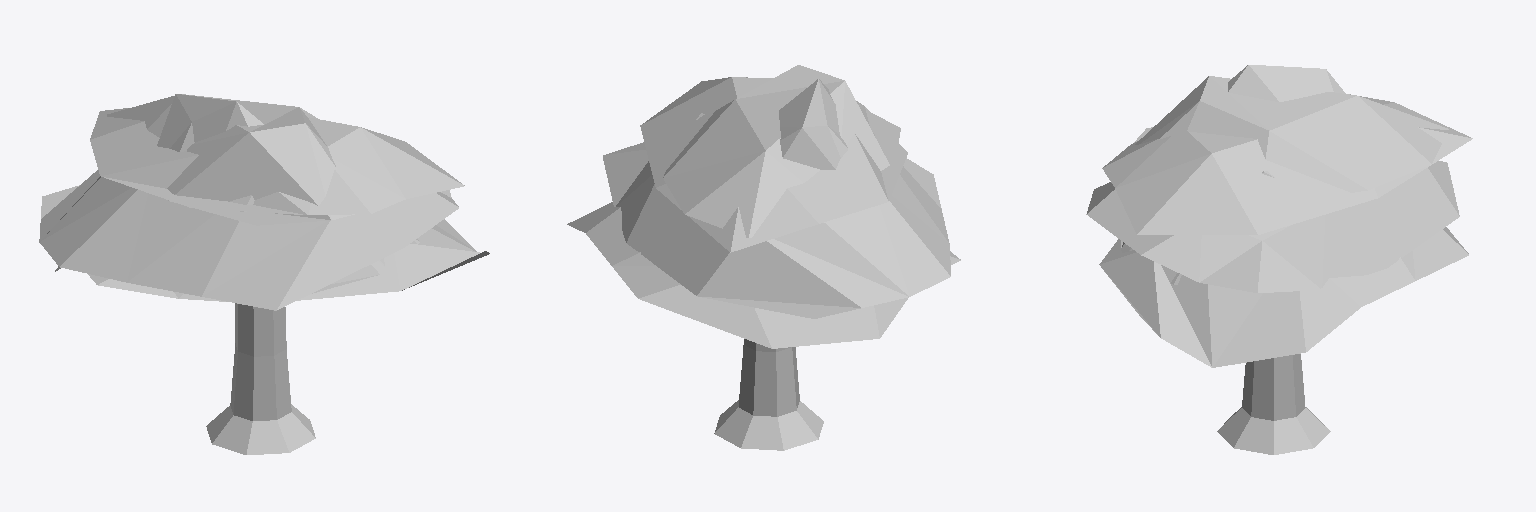
File: WOH_Asset_Tree.obj
3 renders of one model, left to right at view 1: azimuth 30°, elevation 25°; view 2: azimuth 150°, elevation 25°; view 3: azimuth 270°, elevation 25°, orthographic.
Visible parts, largest first — view 1: WOH_Asset_Tree_Tree2mk2; view 2: WOH_Asset_Tree_Tree2mk2; view 3: WOH_Asset_Tree_Tree2mk2.
Boxes of the visible parts, <box> form: WOH_Asset_Tree_Tree2mk2: <box>39,94,489,454</box>; WOH_Asset_Tree_Tree2mk2: <box>567,65,960,450</box>; WOH_Asset_Tree_Tree2mk2: <box>1086,65,1472,454</box>.
Bounding box in the file's own units: 5.62 × 4.93 × 4.96.